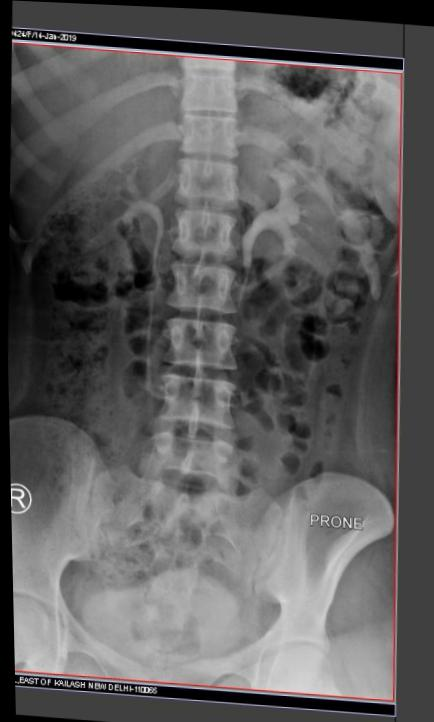bladder: (78, 569, 277, 701)
vertebrae: (188, 183, 264, 250)
